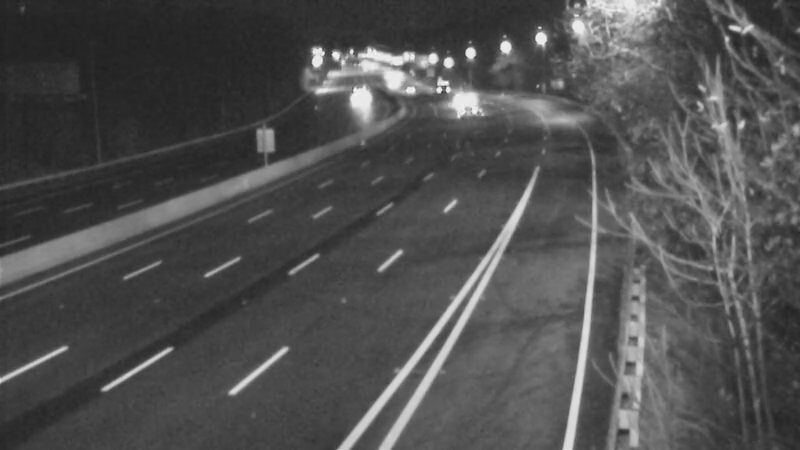vehicle: (416, 62, 466, 112), (387, 66, 437, 116), (432, 71, 482, 121), (445, 88, 495, 138), (329, 76, 379, 126)
